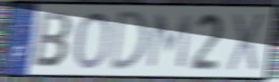2: (189, 12, 226, 73)
B: (31, 10, 74, 70)
D: (108, 9, 151, 73)
M: (145, 12, 194, 71)
O: (72, 10, 113, 72)
X: (225, 11, 268, 74)
